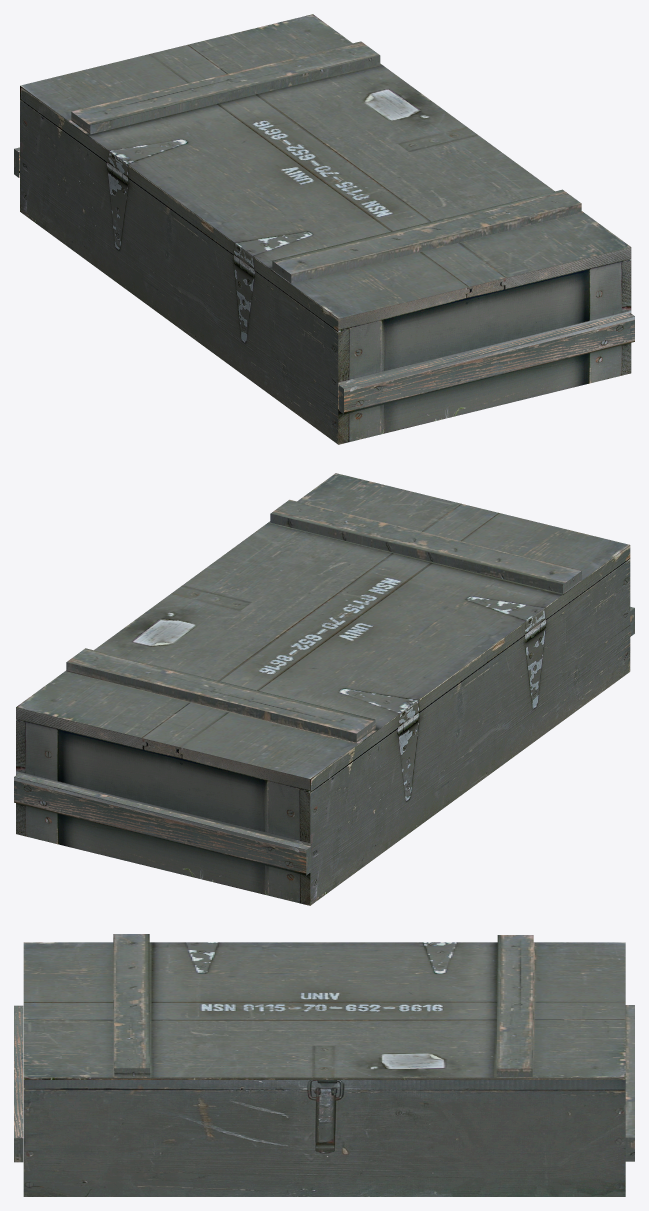
Rendered from ammobox.fbx.
3 renders of one model, top to bottom at view 1: azimuth 30°, elevation 25°; view 2: azimuth 150°, elevation 25°; view 3: azimuth 270°, elevation 25°, orthographic. The views are drawn at different scales.
Parts seen in each view (by area): view 1: ammobox_Layer1; view 2: ammobox_Layer1; view 3: ammobox_Layer1.
Part boxes in pixels (bbox=[...]): ammobox_Layer1: bbox=[14, 14, 634, 444]; ammobox_Layer1: bbox=[14, 473, 634, 905]; ammobox_Layer1: bbox=[14, 934, 634, 1196].
Bounding box in the file's own units: 68.26 × 30 × 132.
1 material, 1 textured.
